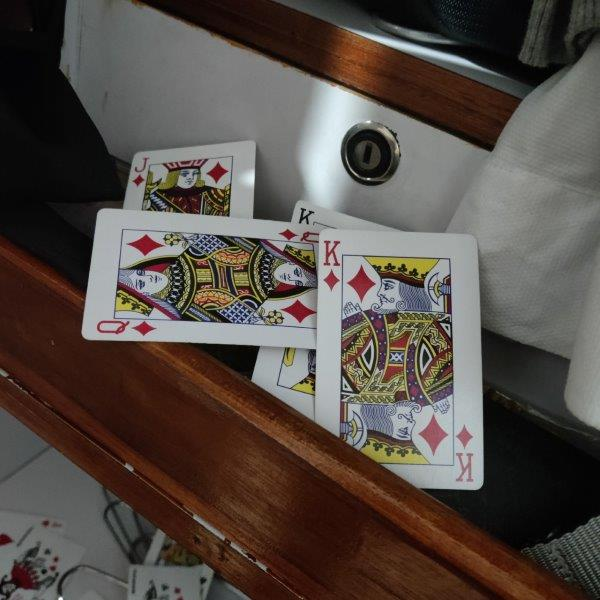Jack of Diamonds: (122, 140, 257, 221)
King of Diamonds: (315, 229, 484, 491)
Queen of Diamonds: (81, 208, 321, 350)
